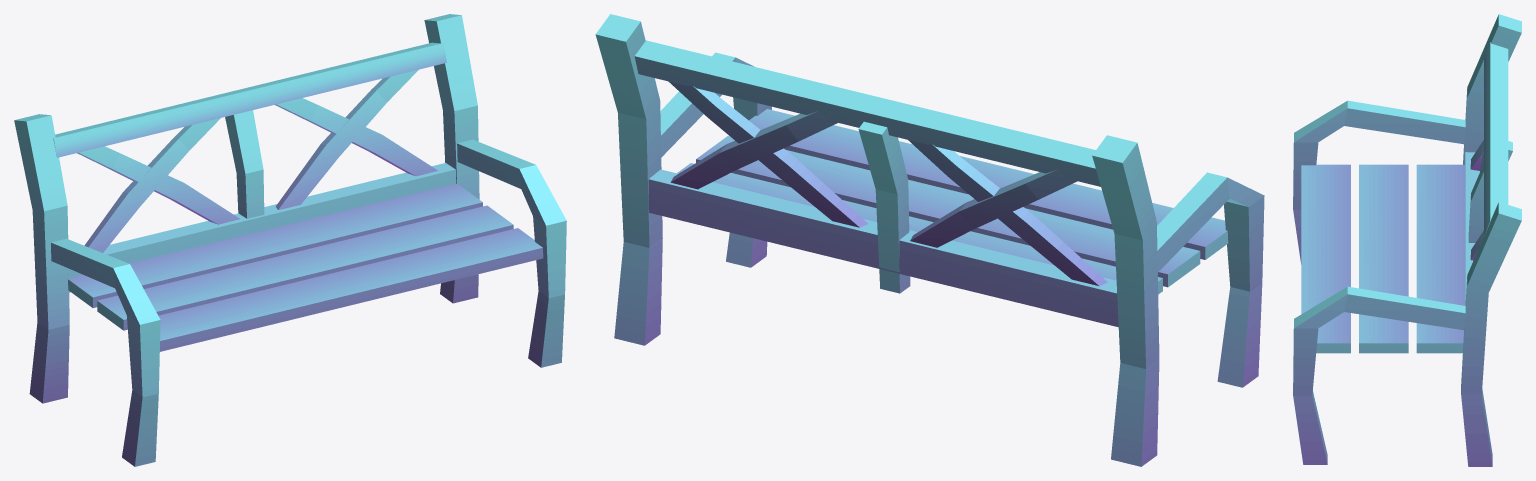
File: bench.obj
The picture shows the model from 3 angles, left to right: view 1: azimuth 30°, elevation 25°; view 2: azimuth 150°, elevation 25°; view 3: azimuth 270°, elevation 25°; orthographic projection. The views are drawn at different scales.
Visible parts, largest first — view 1: bench; view 2: bench; view 3: bench.
Boxes of the visible parts, x1,y1,x2,y2 form: bench: [14, 14, 566, 466]; bench: [595, 14, 1264, 466]; bench: [1293, 14, 1521, 466].
Size of the model in its own units: 5.53 by 3.28 by 2.68.
Materials: 1 (1 with a texture image).
